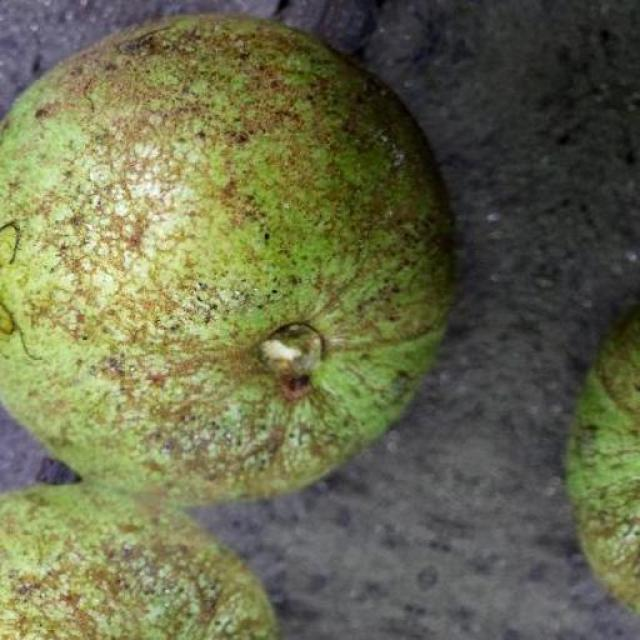Scab: (0, 16, 451, 502)
